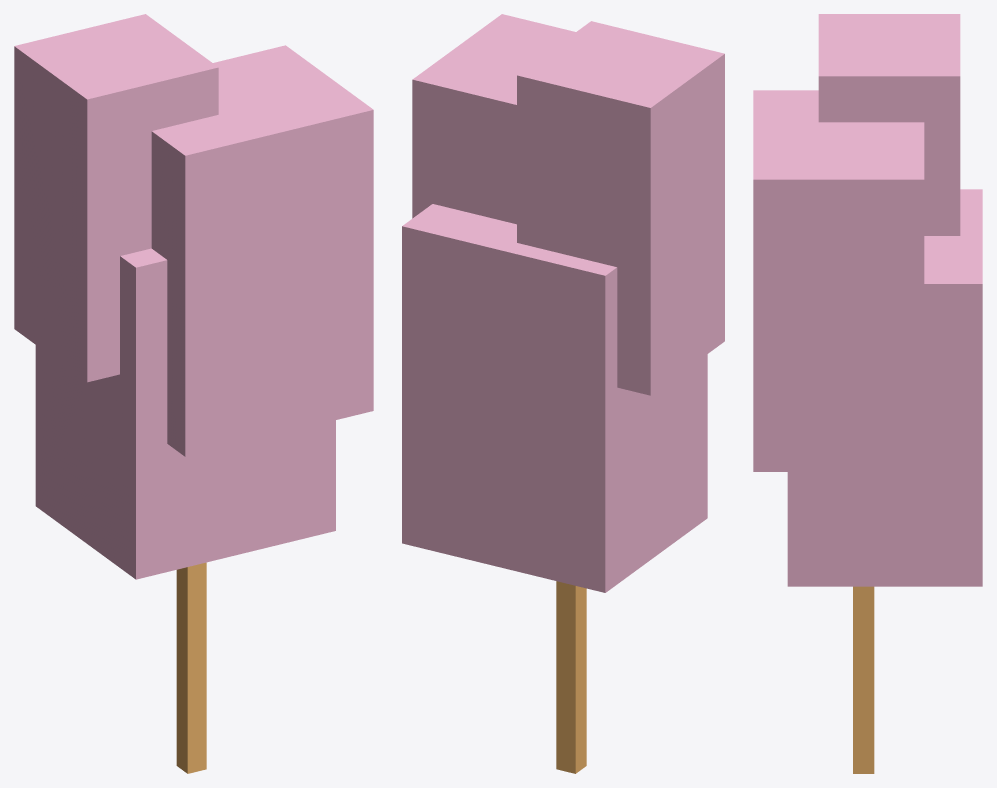
Rendered from CandylandCottonCandy_02.fbx.
3 renders of one model, left to right at view 1: azimuth 30°, elevation 25°; view 2: azimuth 150°, elevation 25°; view 3: azimuth 270°, elevation 25°, orthographic. The views are drawn at different scales.
Visible parts, largest first — view 1: CandylandCottonCandy_02; view 2: CandylandCottonCandy_02; view 3: CandylandCottonCandy_02.
Boxes of the visible parts, x1=… form: CandylandCottonCandy_02: x1=14, y1=14, x2=373, y2=773; CandylandCottonCandy_02: x1=402, y1=14, x2=724, y2=773; CandylandCottonCandy_02: x1=753, y1=14, x2=982, y2=773.
Size of the model in its own units: 0.6973 by 1.89 by 0.5646.
